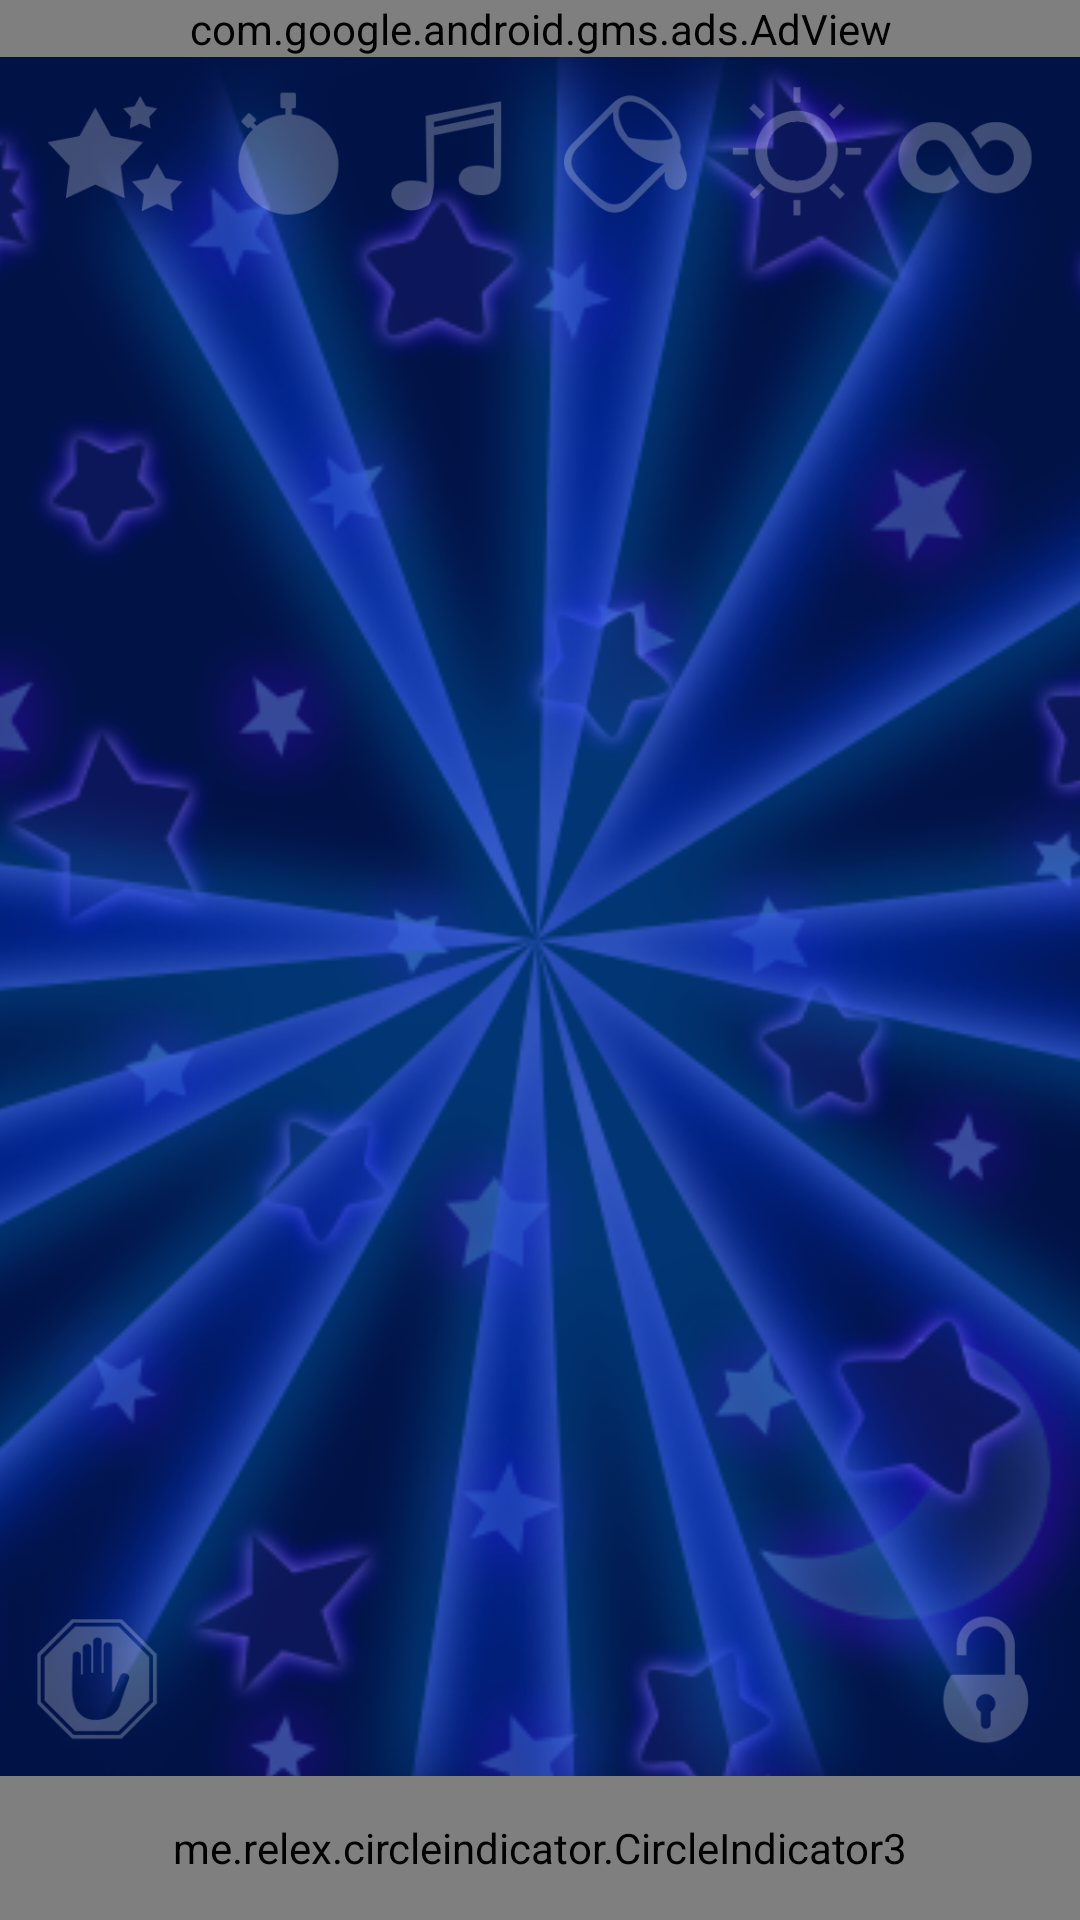

Screen size 1080×1920. Icon name, then its box in pixels as (x1,y1,x2,y2):
automatic: (880,117,1032,222)
chcolor: (553,87,710,222)
nota: (391,101,540,222)
sun: (710,87,880,222)
unlock: (915,1611,1028,1743)
